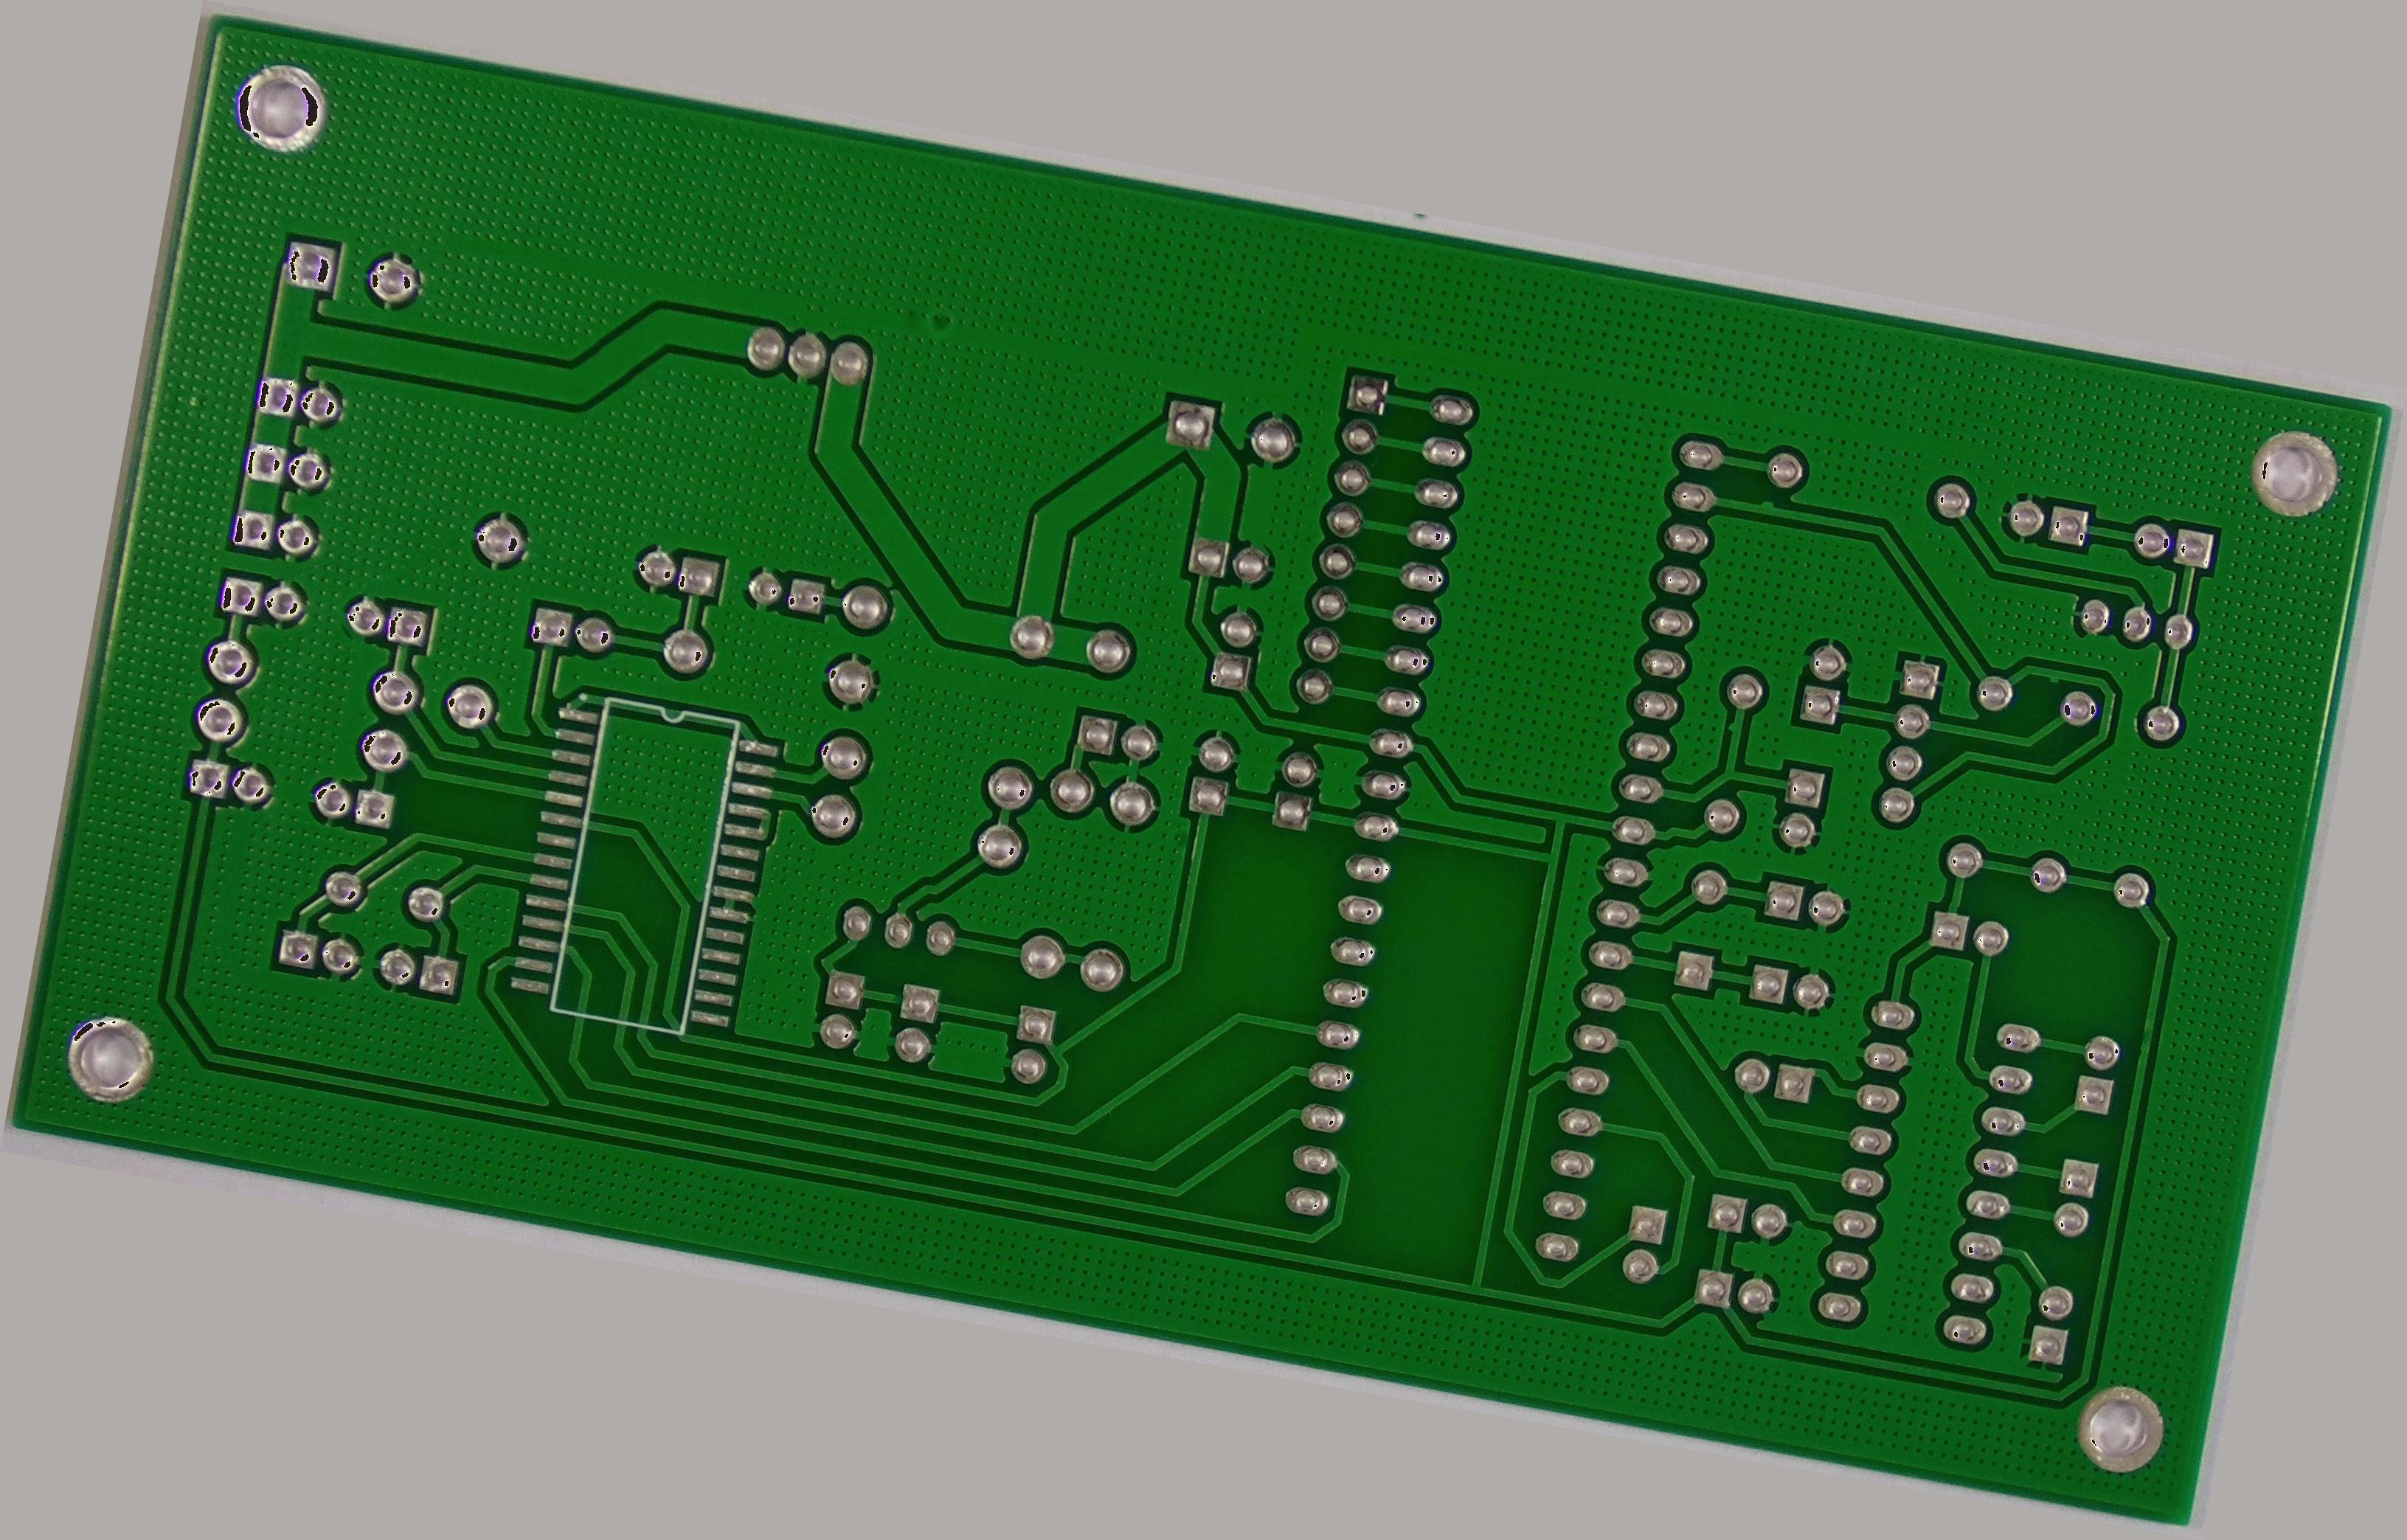spur: (1744, 488, 1786, 523), (1719, 710, 1753, 745), (2039, 659, 2070, 691)
